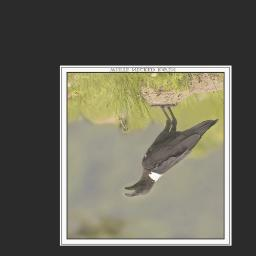Crow: (122, 102, 220, 198)
